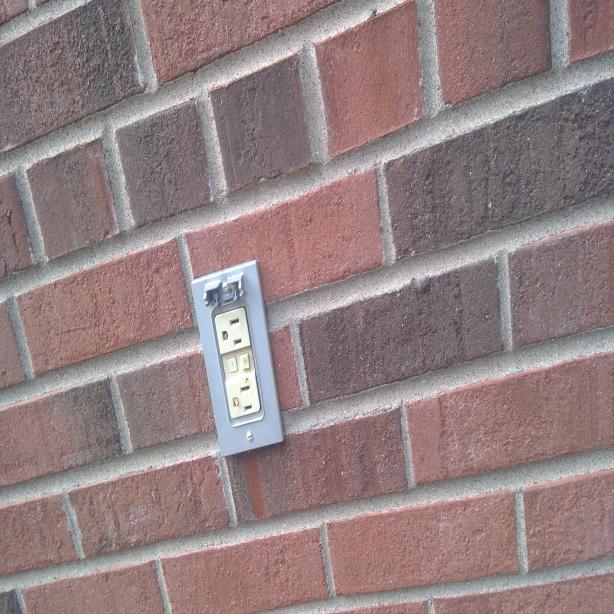typeb: (228, 378, 257, 415), (217, 312, 245, 348)
